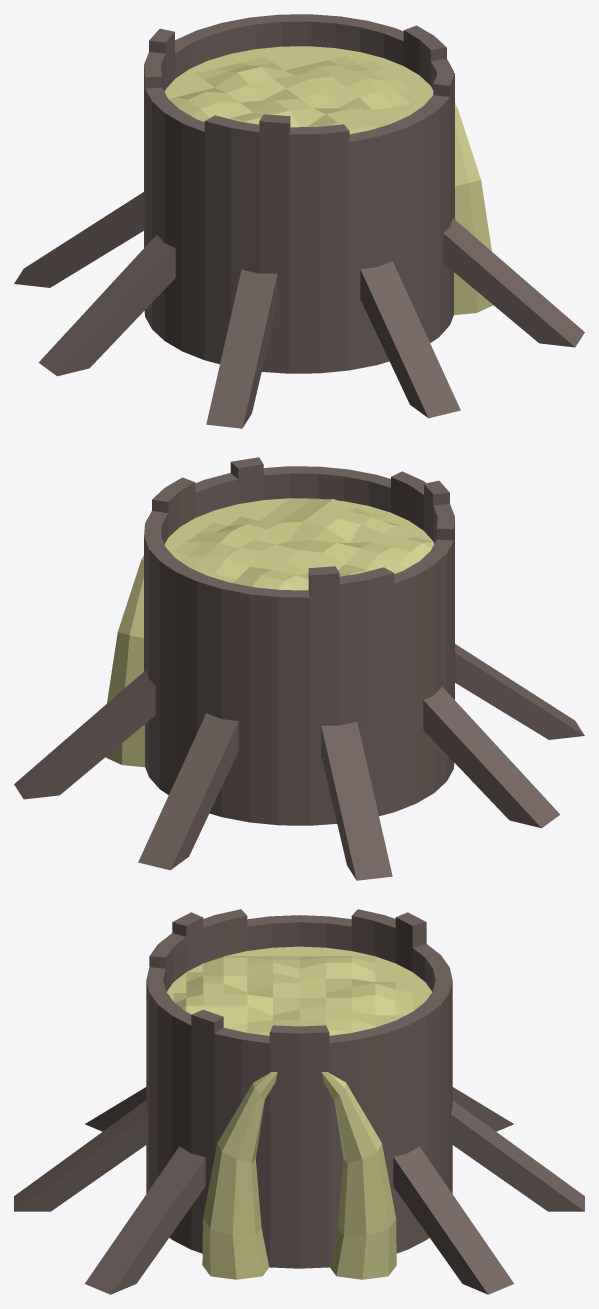
File: Granary TI.fbx
3 renders of one model, top to bottom at view 1: azimuth 30°, elevation 25°; view 2: azimuth 150°, elevation 25°; view 3: azimuth 270°, elevation 25°, orthographic.
Parts seen in each view (by area): view 1: Granary TI; view 2: Granary TI; view 3: Granary TI.
Boxes of the visible parts, x1,y1,x2,y2 form: Granary TI: [14, 14, 584, 428]; Granary TI: [14, 457, 584, 880]; Granary TI: [14, 909, 584, 1294].
Size of the model in its own units: 1236 by 671 by 1411.
